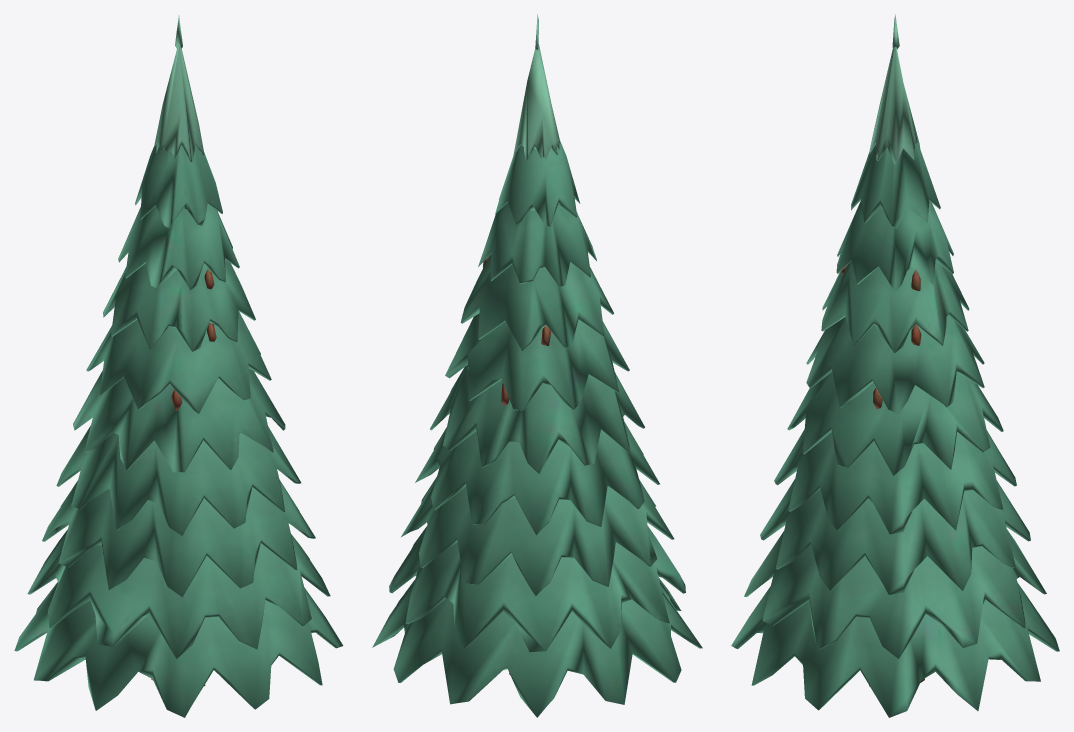
Rendered from spruce-tree.glb.
3 renders of one model, left to right at view 1: azimuth 30°, elevation 25°; view 2: azimuth 150°, elevation 25°; view 3: azimuth 270°, elevation 25°, orthographic.
Visible parts, largest first — view 1: spruce-tree_body; view 2: spruce-tree_body; view 3: spruce-tree_body.
Part boxes in pixels (<box>): spruce-tree_body: <box>14,15,343,717</box>; spruce-tree_body: <box>372,14,702,717</box>; spruce-tree_body: <box>731,14,1059,717</box>.
Size of the model in its own units: 3.49 by 7.79 by 3.49.
1 material, 1 textured.
